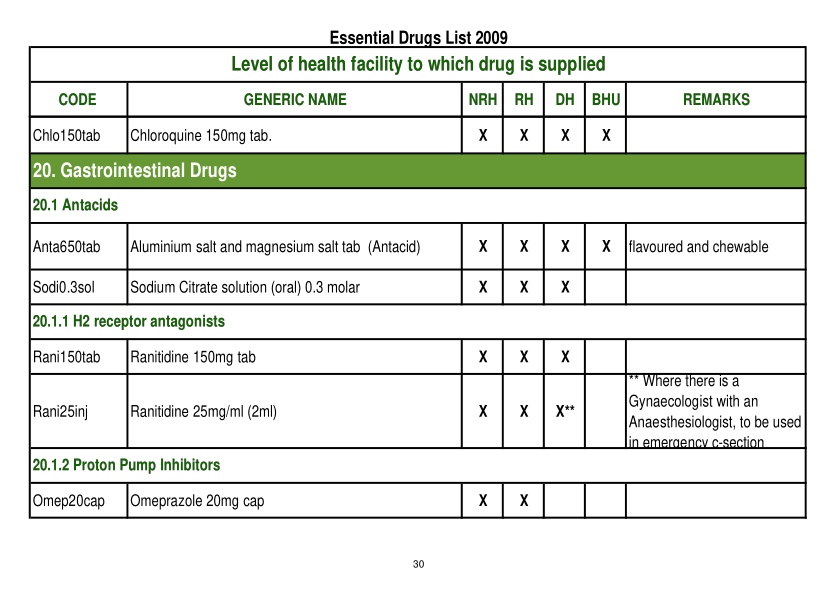merged_cells: (28, 45, 807, 519)
